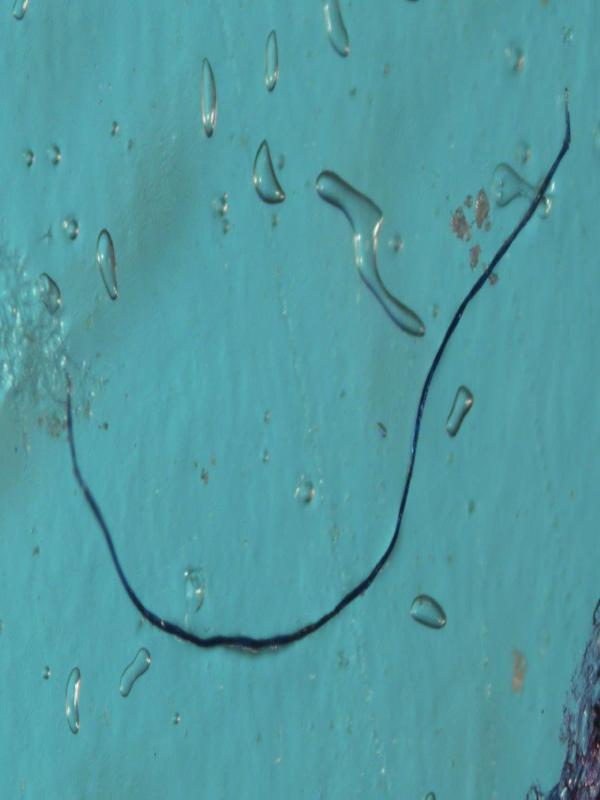microplastic: (61, 82, 571, 654)
